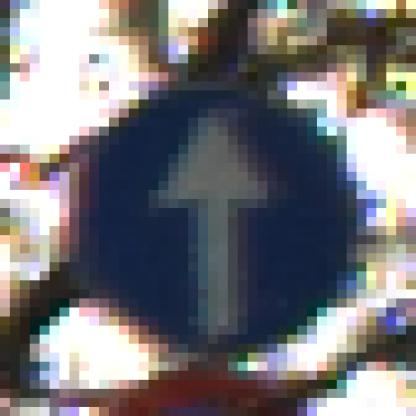AheadOnly: (61, 46, 358, 363)
